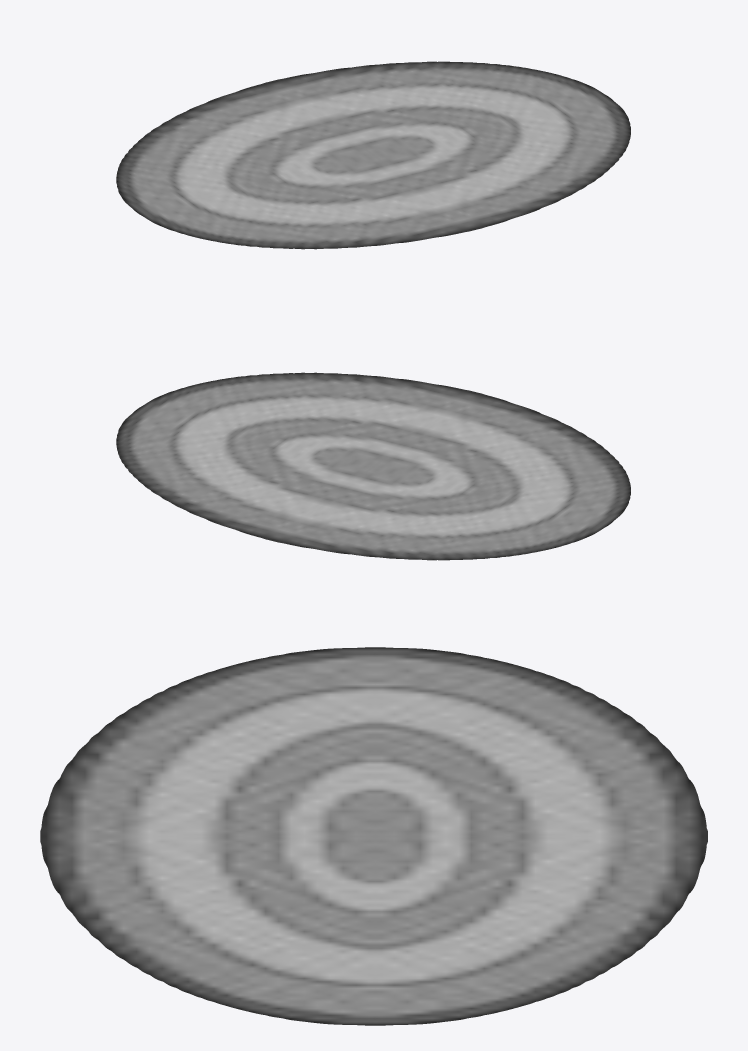
The model's file is rugADesat.glb.
3 renders of one model, top to bottom at view 1: azimuth 30°, elevation 25°; view 2: azimuth 150°, elevation 25°; view 3: azimuth 270°, elevation 25°, orthographic. The views are drawn at different scales.
Parts seen in each view (by area): view 1: pPlane3, pPlane4, pPlane5, pPlane1; view 2: pPlane4, pPlane3, pPlane1, pPlane5; view 3: pPlane3, pPlane4, pPlane1, pPlane5.
Boxes of the visible parts, left/top/right/bottom form: pPlane3: left=137, top=155, right=475, bottom=249; pPlane4: left=374, top=97, right=630, bottom=229; pPlane5: left=272, top=61, right=609, bottom=154; pPlane1: left=116, top=81, right=373, bottom=212; pPlane4: left=137, top=372, right=475, bottom=466; pPlane3: left=374, top=392, right=630, bottom=524; pPlane1: left=272, top=467, right=609, bottom=560; pPlane5: left=116, top=409, right=373, bottom=540; pPlane3: left=40, top=647, right=375, bottom=836; pPlane4: left=40, top=836, right=375, bottom=1025; pPlane1: left=375, top=647, right=707, bottom=836; pPlane5: left=375, top=836, right=707, bottom=1025.
Bounding box in the file's own units: 4.14 × 0 × 3.14.
Materials: 1 (1 with a texture image).
